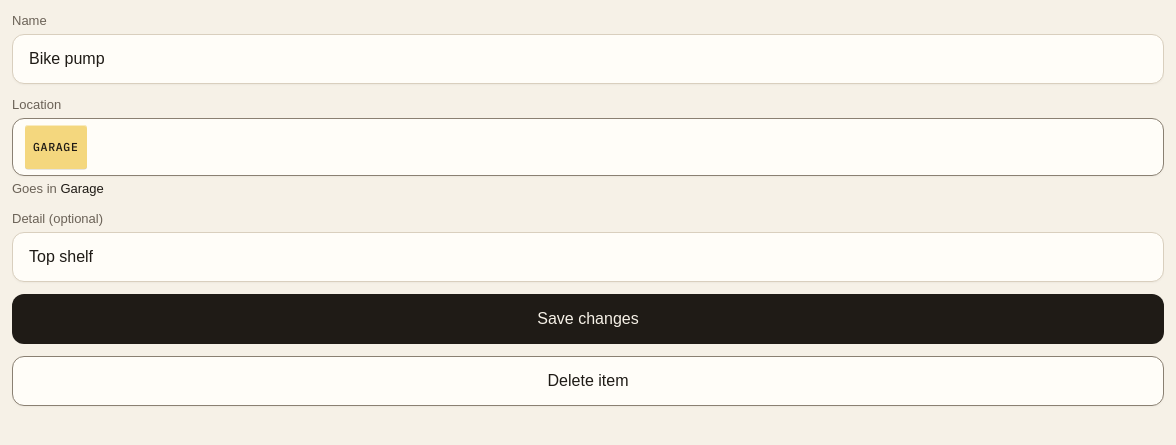
Test: submitting with an empty name shows a specific inline error, associated to the field
Clear the field labelled "Name": (588, 59) [12,34,1164,84]
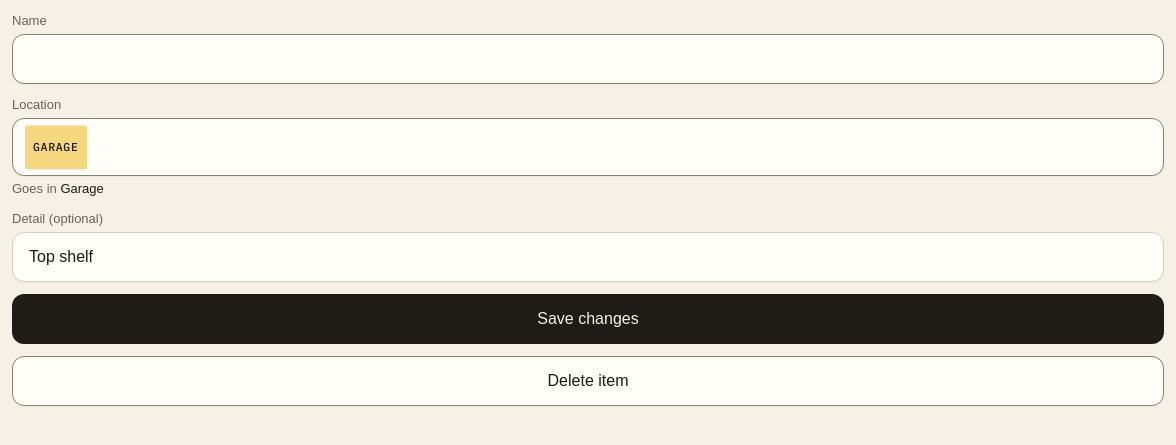
Click the button "Save changes": (588, 319) [12,294,1164,344]
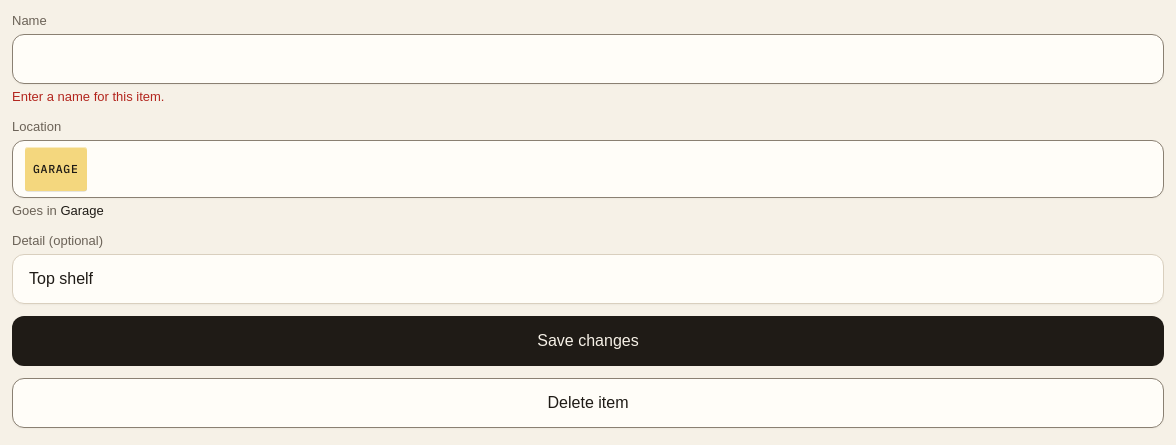
Check: the text "Enter a name for this item." is shown, box [12,89,164,104]
